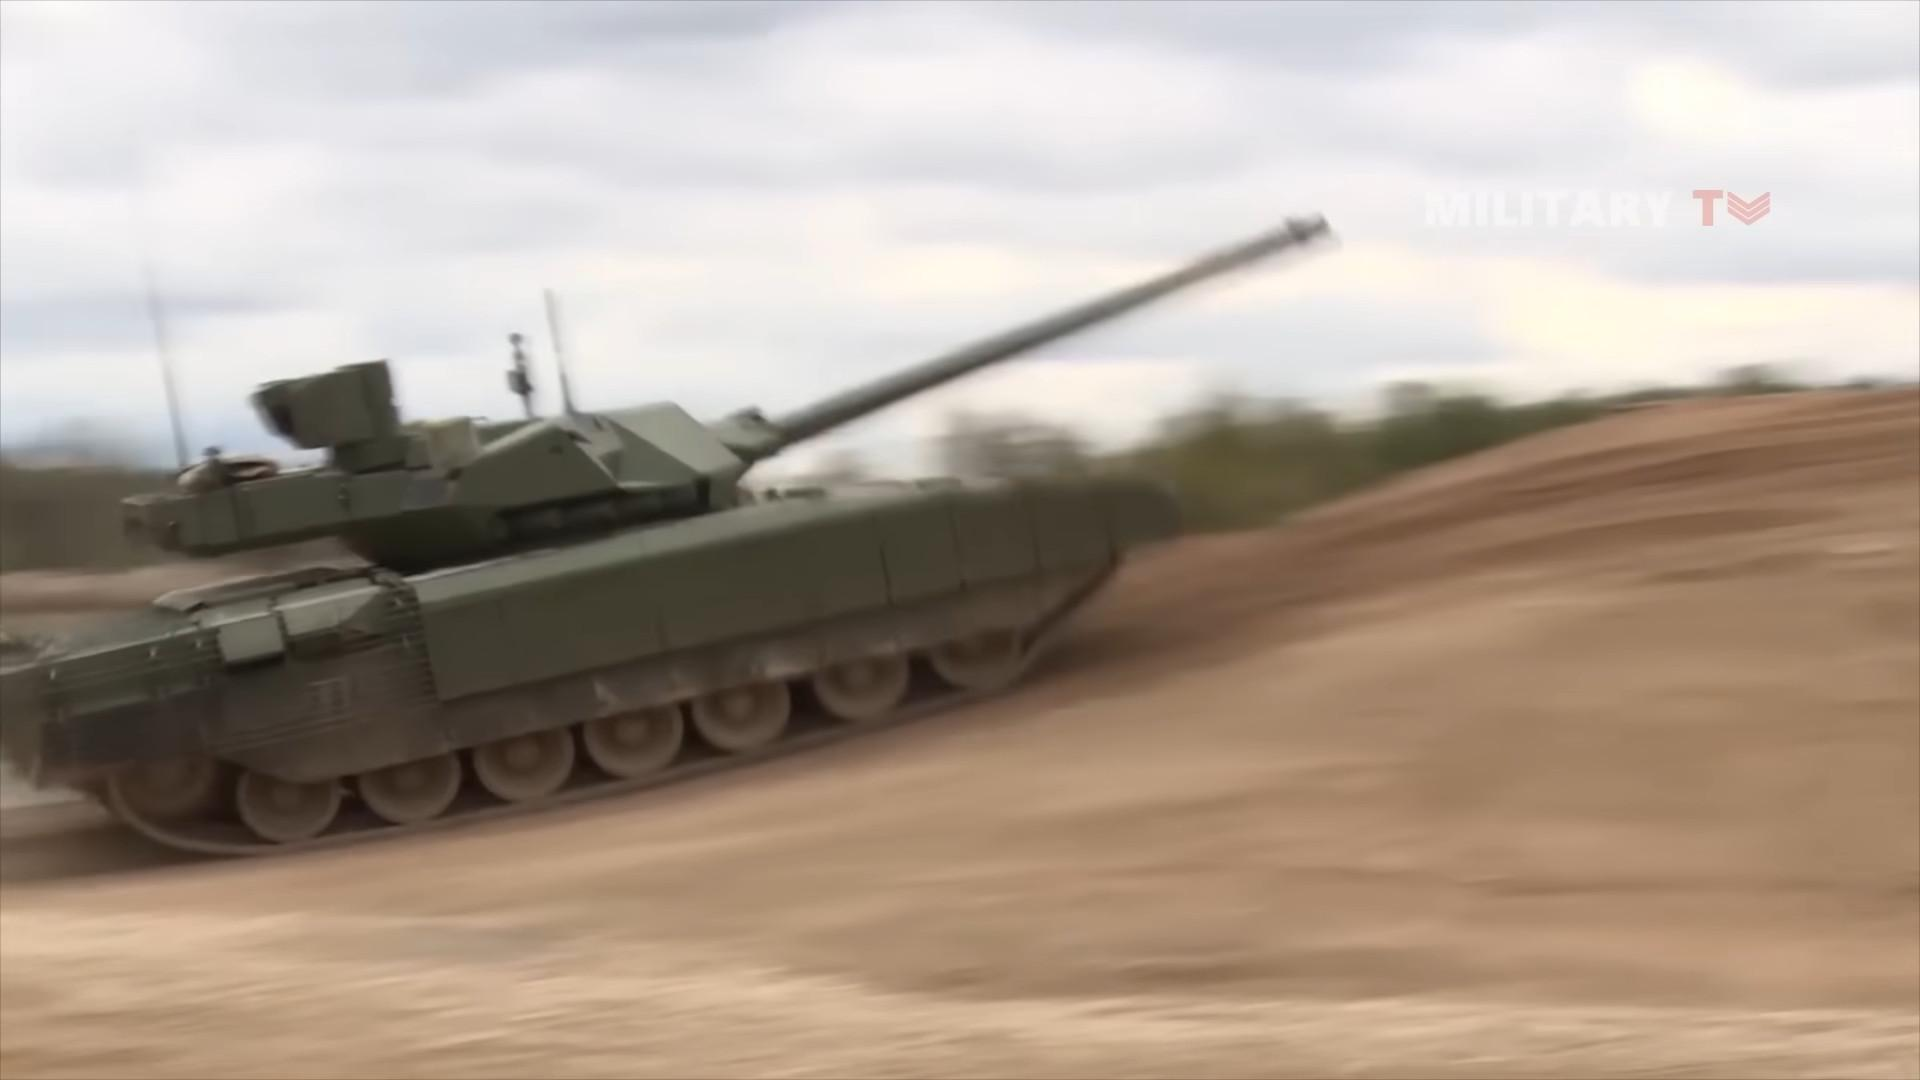tank: (0, 216, 1329, 860)
